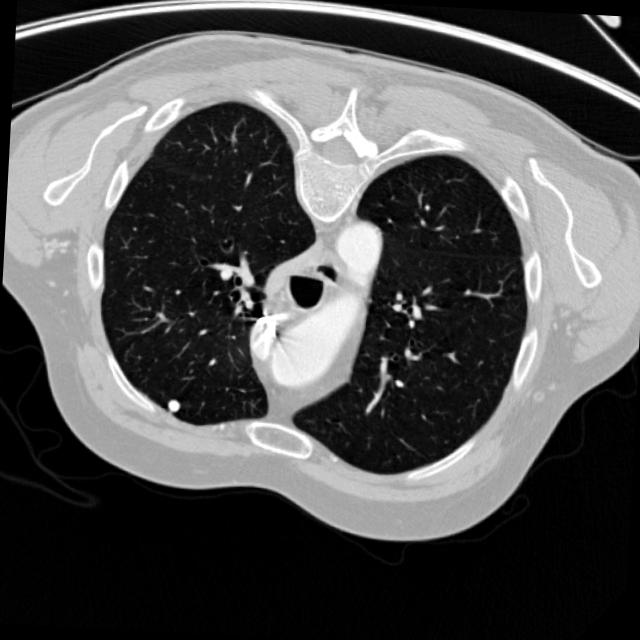nodule: (156, 390, 188, 422)
